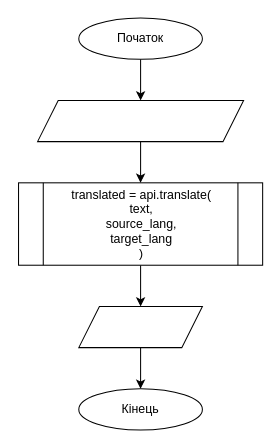
Image size: 280x448. Some labels were removed from this diagram. The shapes that lost their labels are listed below. From the top down, each one's centre as x and y in pixels, then its label:
point 140,120: text, source_lang, target_lang
point 140,326: translated
